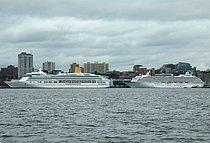Ship: (5, 67, 115, 90), (121, 70, 208, 92)
